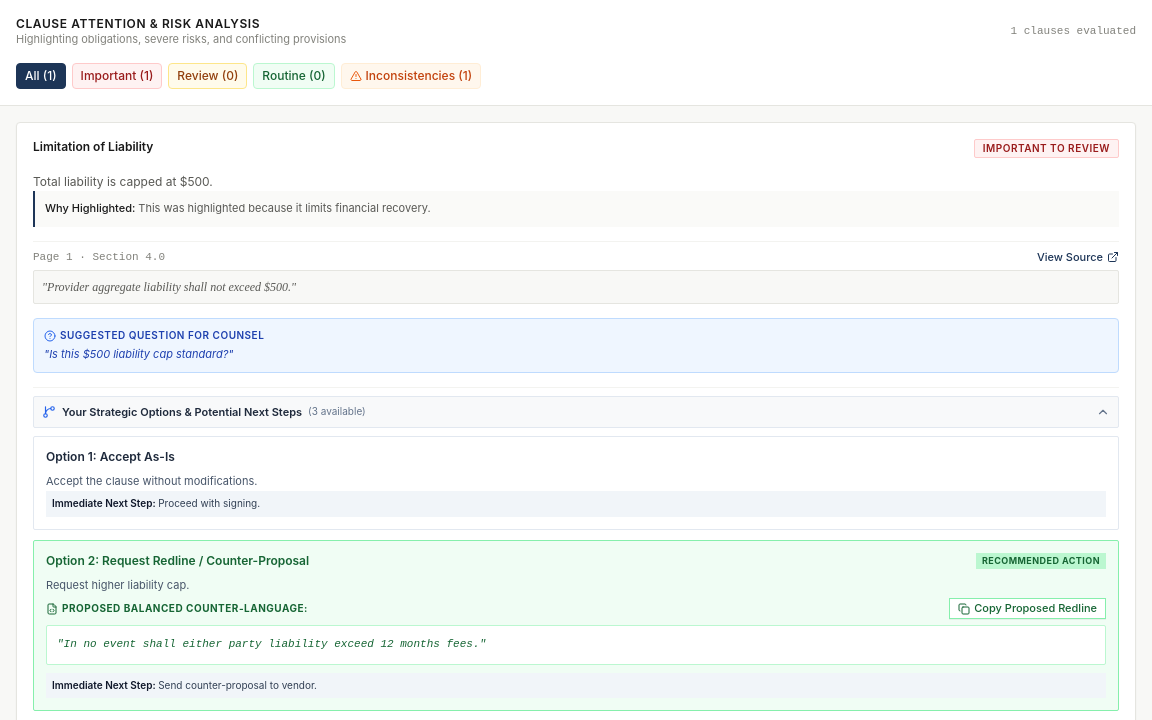
Scenario: ReviewPanel Component › renders inconsistencies tab and displays side-by-side conflicting clauses
Check: the text "Inconsistencies (1)" is shown, box 366,68 -> 472,84
What coordinates should you click on to do the following:
click the button "Inconsistencies (1)"
I would click on:
 (411, 76)
Its box is 341,63 -> 481,89.
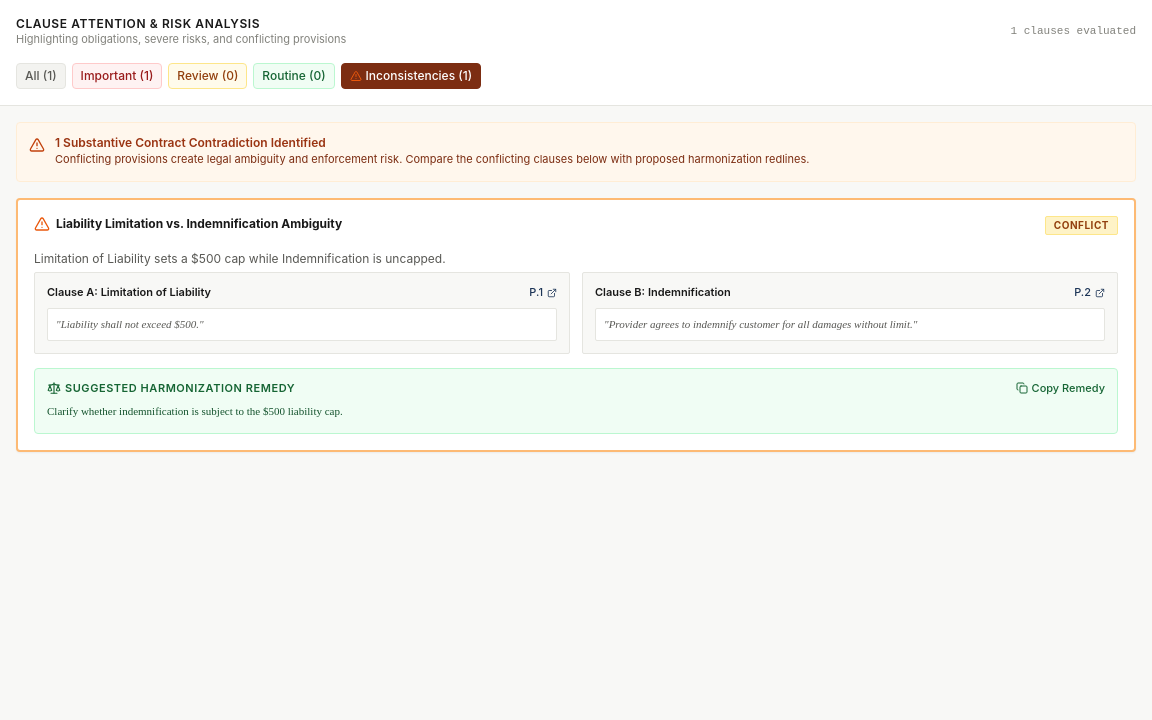
Check: the heading "Liability Limitation vs. Indemnification Ambiguity" is shown, box 56,216 -> 342,232
Check: the text "Clause A: Limitation of Liability" is shown, box 47,285 -> 211,300
Check: the text "Clause B: Indemnification" is shown, box 595,285 -> 731,300
